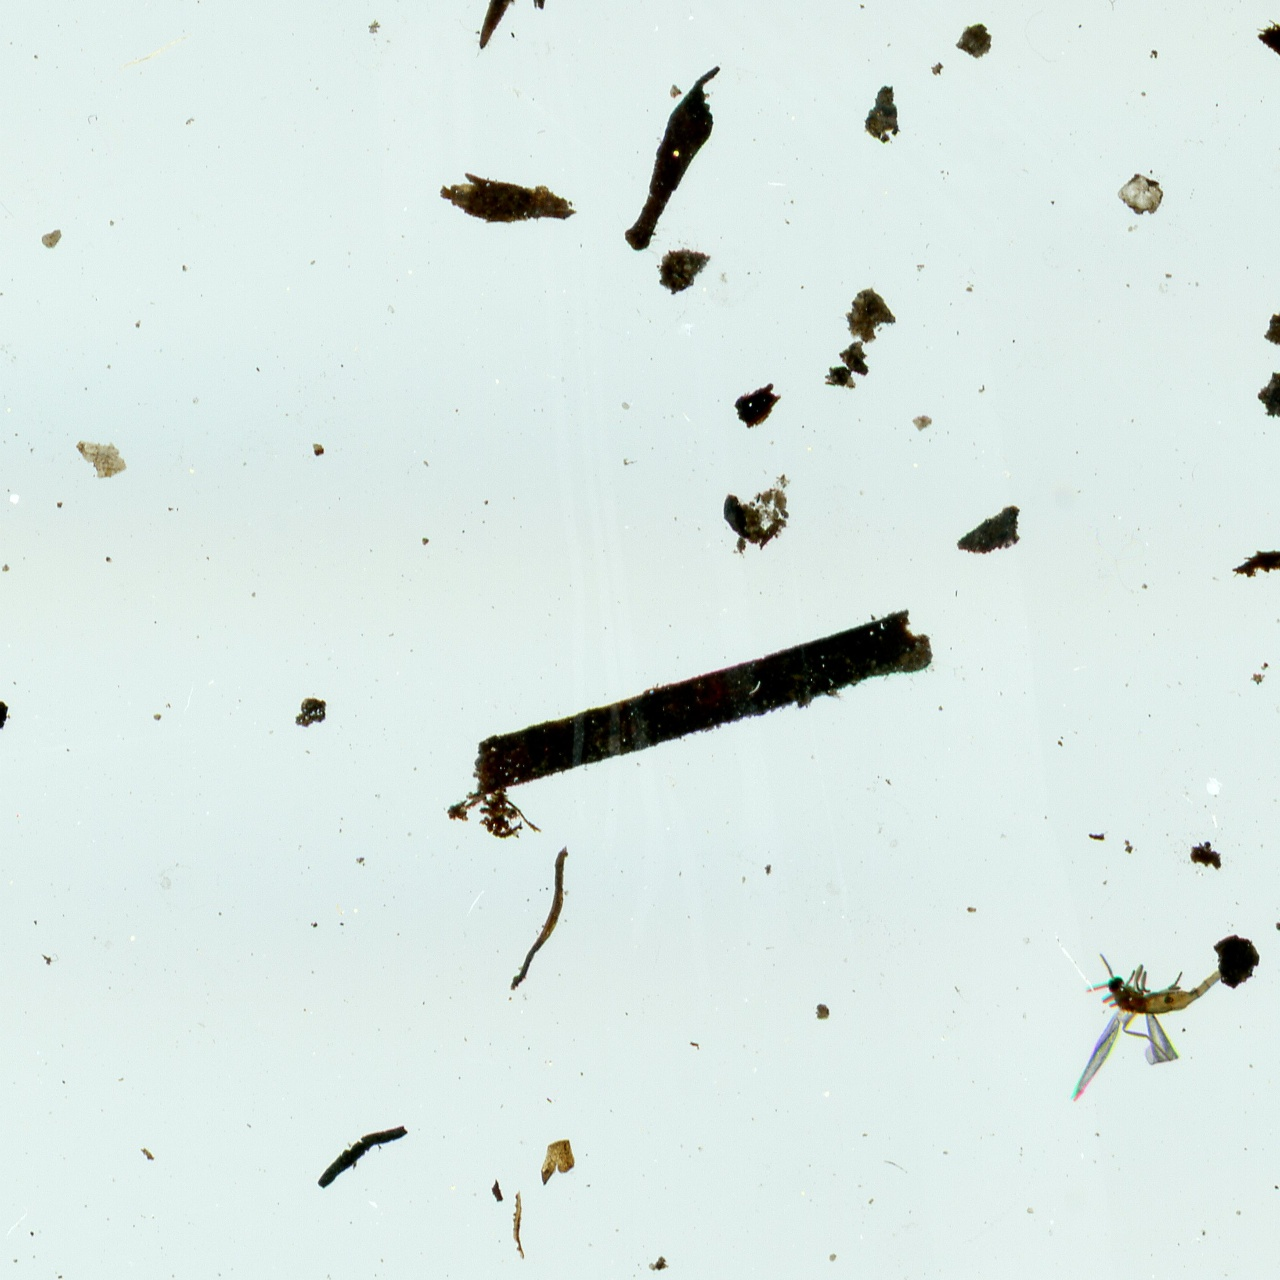arthropod: (1060, 945, 1220, 1102)
